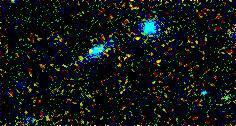star: (125, 29, 155, 59)
